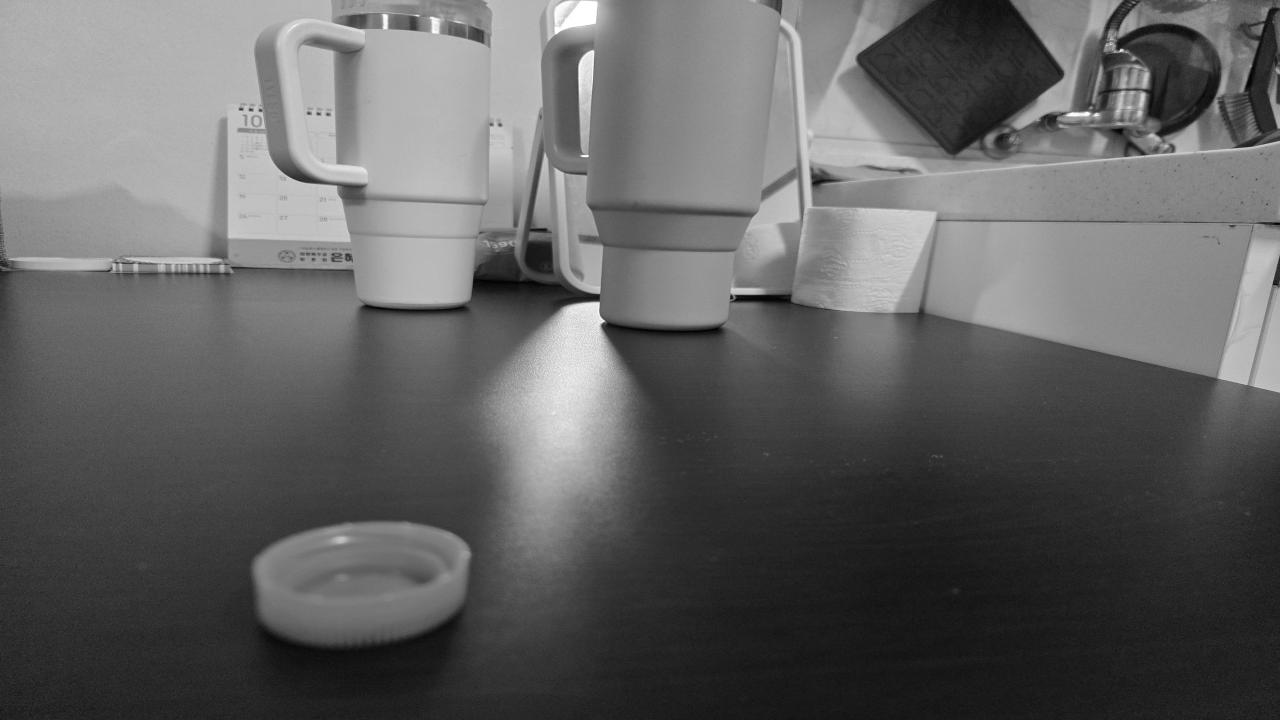bottle_cap: (261, 524, 464, 640)
